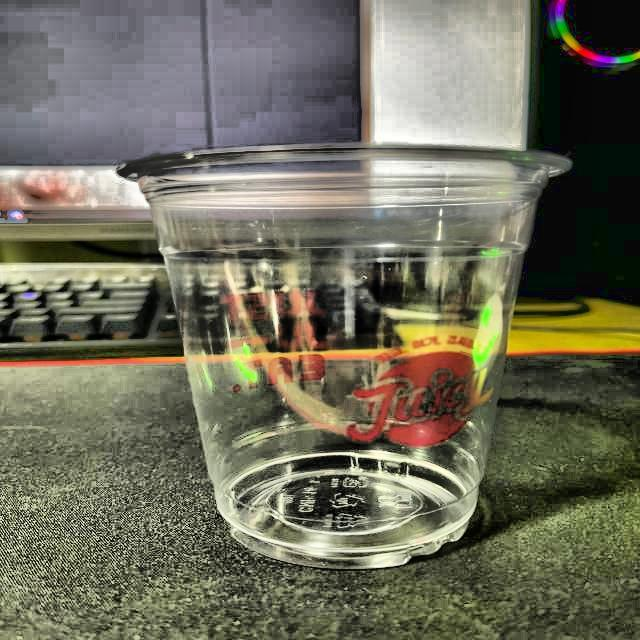plastic cup: (111, 138, 576, 569)
